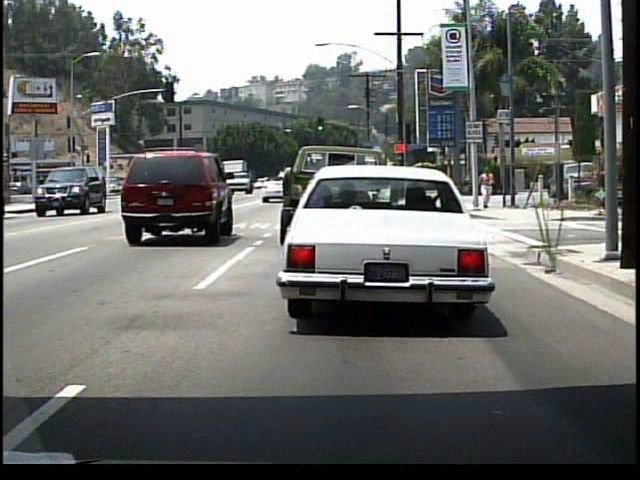person: (479, 167, 495, 211)
